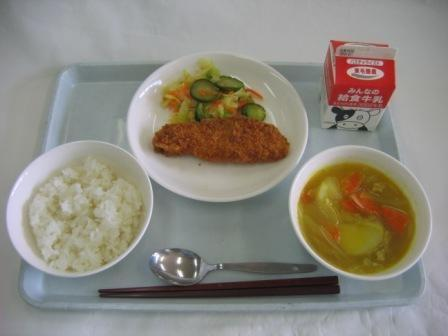Milk: (310, 26, 412, 134)
Rice: (8, 146, 149, 282)
Salad: (158, 55, 276, 117)
cutlet: (146, 117, 295, 171)
vegetable soup: (295, 151, 426, 274)
